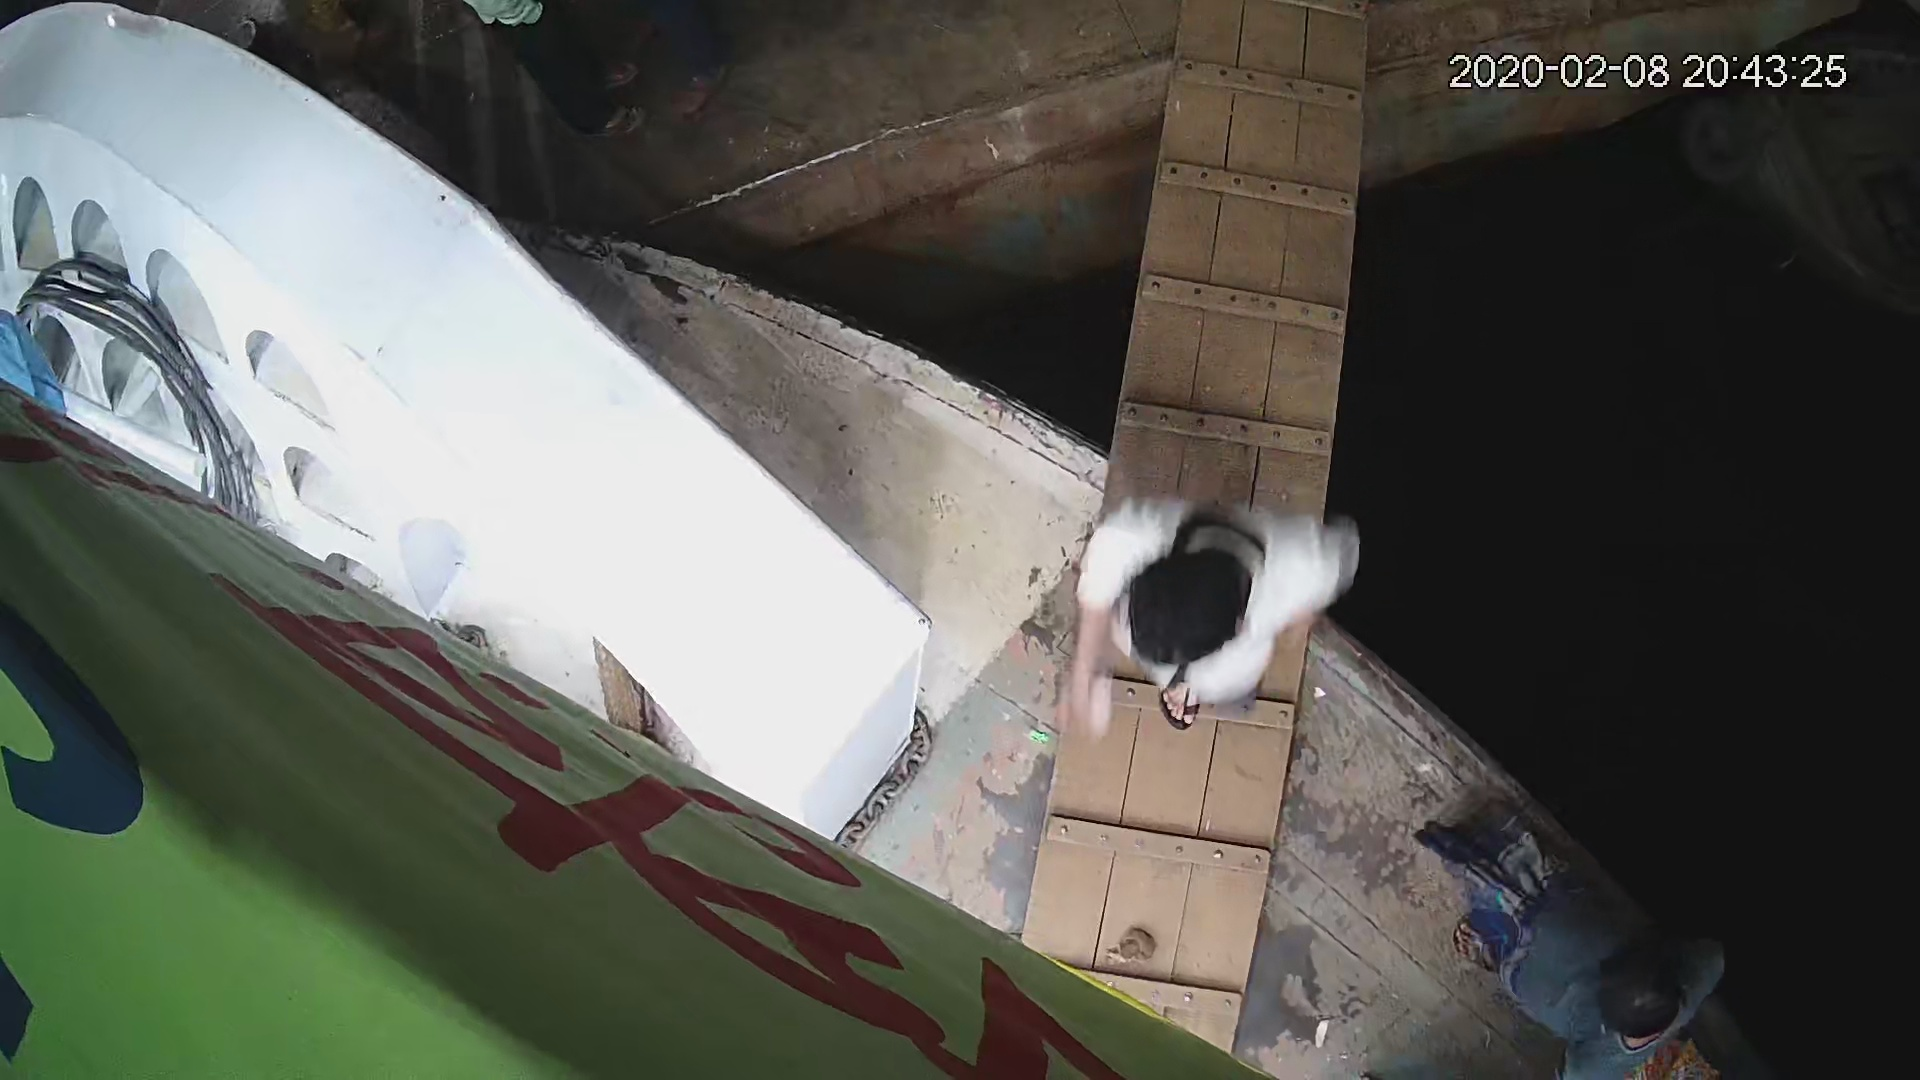person: (1410, 790, 1734, 1080), (1058, 490, 1365, 732)
